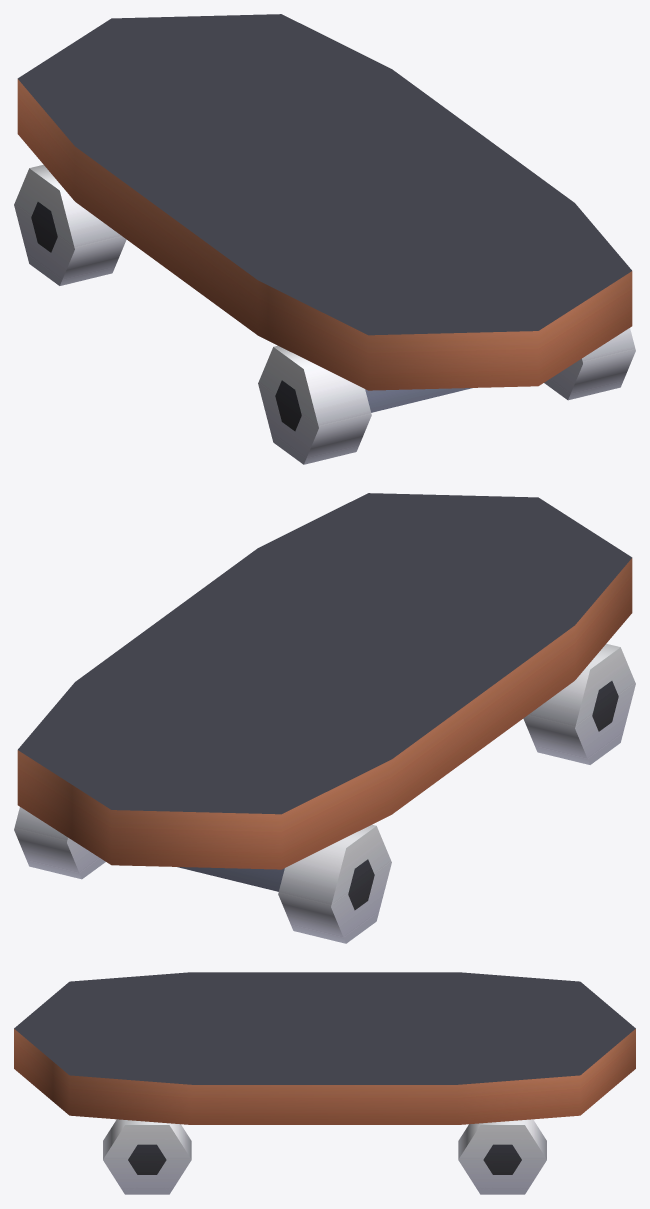
The model's file is skateboard.glb.
The picture shows the model from 3 angles, top to bottom: view 1: azimuth 30°, elevation 25°; view 2: azimuth 150°, elevation 25°; view 3: azimuth 270°, elevation 25°; orthographic projection. The views are drawn at different scales.
Parts seen in each view (by area): view 1: skateboard; view 2: skateboard; view 3: skateboard.
Part boxes in pixels (<box>): skateboard: <box>14,14,635,464</box>; skateboard: <box>14,493,635,943</box>; skateboard: <box>14,972,635,1194</box>.
Bounding box in the file's own units: 0.3 × 0.1366 × 0.7.
Materials: 1 (1 with a texture image).
